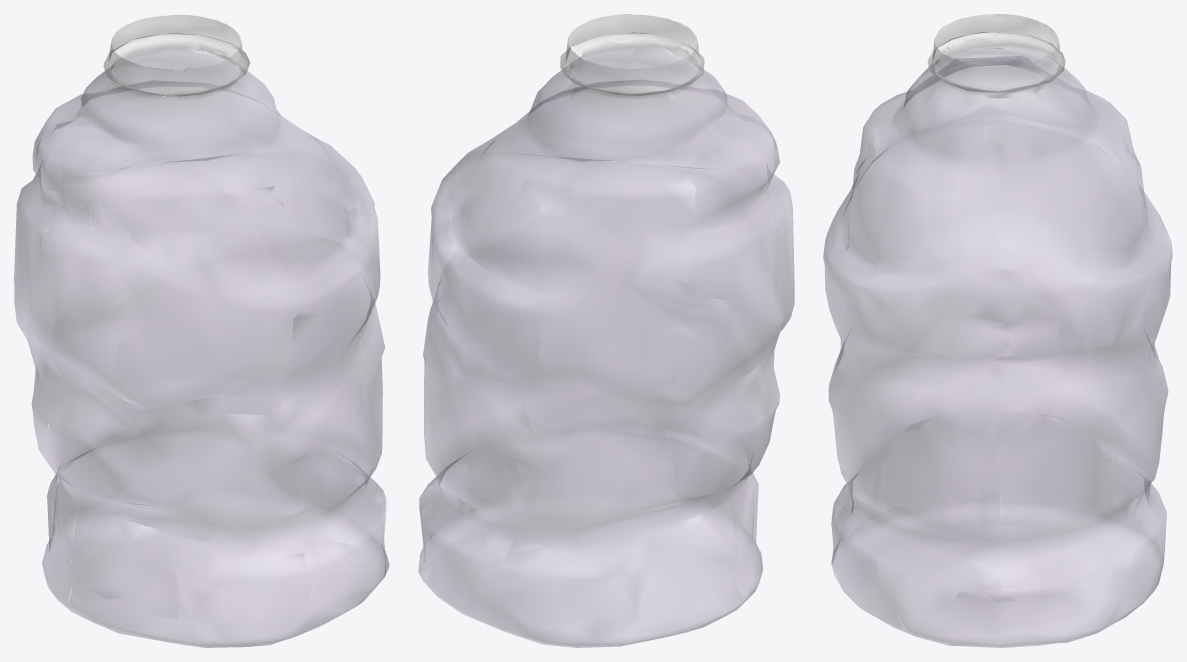
Rendered from 07_14_nj_et_prp_s_trs.glb.
3 views of the same model, side by side, from view 1: azimuth 30°, elevation 25°; view 2: azimuth 150°, elevation 25°; view 3: azimuth 270°, elevation 25° (orthographic). The views are drawn at different scales.
Visible parts, largest first — view 1: prp.002; view 2: prp.002; view 3: prp.002.
Part boxes in pixels (box(x1,y1,x2,y2)): prp.002: box(14, 14, 389, 647); prp.002: box(418, 14, 794, 647); prp.002: box(823, 14, 1172, 647).
Bounding box in the file's own units: 0.1222 × 0.1901 × 0.1149.
Materials: 1 (1 with a texture image).
